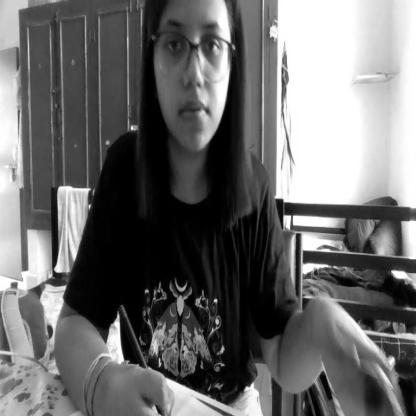Normal: (148, 0, 232, 167)
